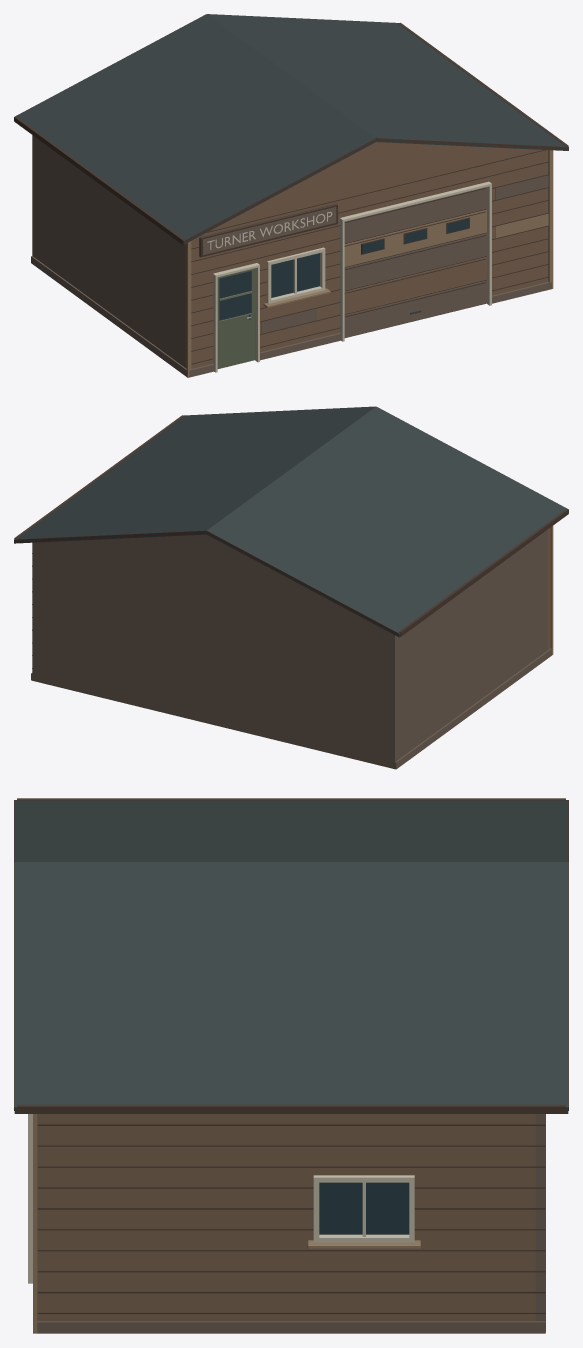
File: Turner_MainWorkshop.fbx
3 renders of one model, top to bottom at view 1: azimuth 30°, elevation 25°; view 2: azimuth 150°, elevation 25°; view 3: azimuth 270°, elevation 25°, orthographic. The views are drawn at different scales.
Parts seen in each view (by area): view 1: Turner_Workshop_Roof, Turner_Workshop_Shell, Turner_GarageDoor, Turner_Workshop_Siding, Turner_PedestrianDoor, Turner_Workshop_Door_Frames, Turner_Workshop_Front_Window, Turner_Workshop_Nameboard, Turner_Workshop_Lettering; view 2: Turner_Workshop_Shell, Turner_Workshop_Roof, Turner_Workshop_Siding; view 3: Turner_Workshop_Roof, Turner_Workshop_Shell, Turner_Workshop_Siding, Turner_Workshop_Side_Window, Turner_Workshop_Door_Frames.
Part boxes in pixels (<box>): Turner_Workshop_Roof: <box>14,14,568,244</box>; Turner_Workshop_Shell: <box>32,135,548,368</box>; Turner_GarageDoor: <box>344,187,486,337</box>; Turner_Workshop_Siding: <box>31,150,553,377</box>; Turner_PedestrianDoor: <box>217,268,255,368</box>; Turner_Workshop_Door_Frames: <box>213,181,491,372</box>; Turner_Workshop_Front_Window: <box>263,247,330,308</box>; Turner_Workshop_Nameboard: <box>199,203,337,257</box>; Turner_Workshop_Lettering: <box>207,211,332,249</box>; Turner_Workshop_Shell: <box>32,527,550,769</box>; Turner_Workshop_Roof: <box>14,406,568,637</box>; Turner_Workshop_Siding: <box>31,526,553,769</box>; Turner_Workshop_Roof: <box>14,798,568,1113</box>; Turner_Workshop_Shell: <box>37,1114,545,1332</box>; Turner_Workshop_Siding: <box>33,1114,545,1333</box>; Turner_Workshop_Side_Window: <box>307,1175,420,1248</box>; Turner_Workshop_Door_Frames: <box>28,1114,32,1283</box>.
Size of the model in its own units: 9.17 by 4.52 by 6.98.
